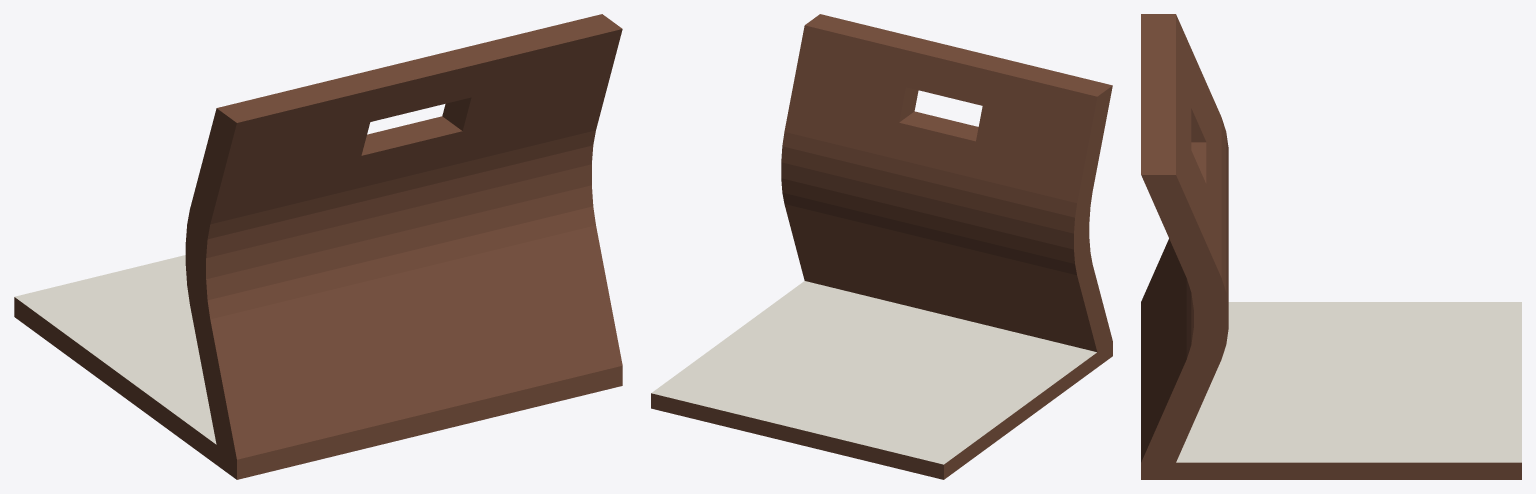
Rendered from Tranditional_Seat.fbx.
The picture shows the model from 3 angles, left to right: view 1: azimuth 30°, elevation 25°; view 2: azimuth 150°, elevation 25°; view 3: azimuth 270°, elevation 25°; orthographic projection. The views are drawn at different scales.
Parts seen in each view (by area): view 1: Tranditional_Seat; view 2: Tranditional_Seat; view 3: Tranditional_Seat.
Part boxes in pixels (box(x1,y1,x2,y2)): Tranditional_Seat: box(14, 14, 622, 479); Tranditional_Seat: box(651, 14, 1112, 479); Tranditional_Seat: box(1141, 14, 1521, 479).
Size of the model in its own units: 0.5 by 0.4421 by 0.5.
